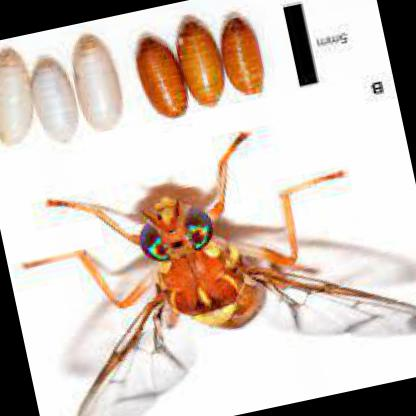fruit fly: (23, 133, 416, 416)
